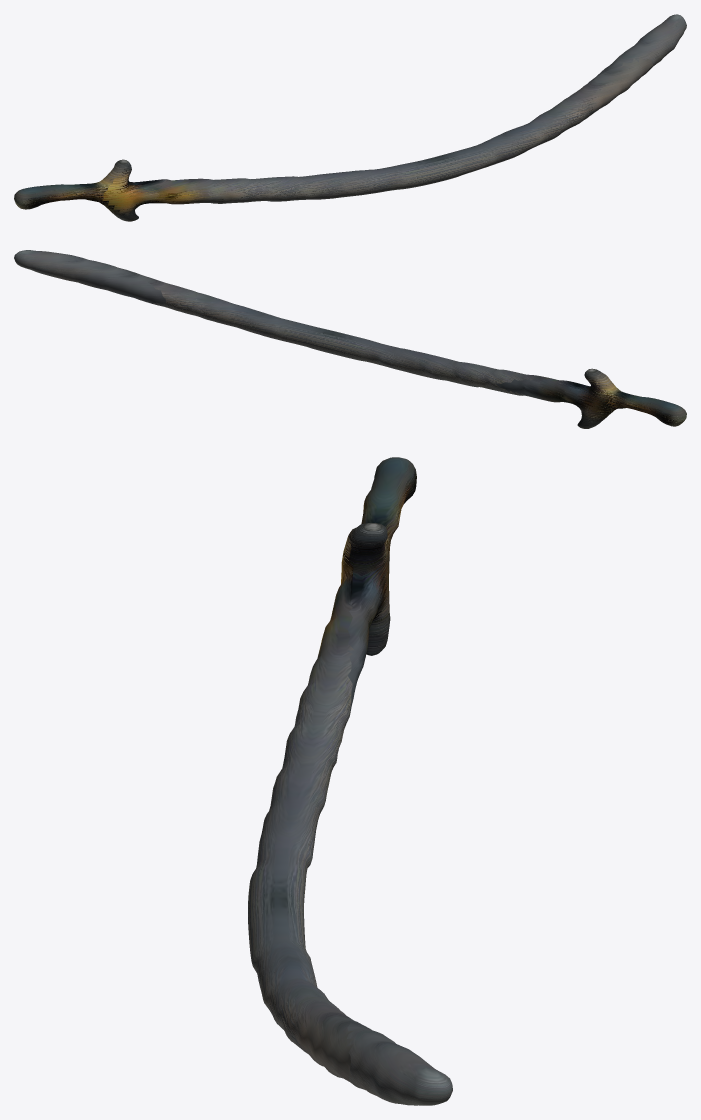
The model's file is kfl-2127.glb.
3 renders of one model, top to bottom at view 1: azimuth 30°, elevation 25°; view 2: azimuth 150°, elevation 25°; view 3: azimuth 270°, elevation 25°, orthographic. The views are drawn at different scales.
Parts seen in each view (by area): view 1: geometry_0; view 2: geometry_0; view 3: geometry_0.
Boxes of the visible parts, x1,y1,x2,y2 form: geometry_0: (14, 14, 686, 221); geometry_0: (14, 250, 686, 428); geometry_0: (248, 457, 452, 1105).
Bounding box in the file's own units: 0.9872 × 0.0998 × 0.133.
1 material, 1 textured.
